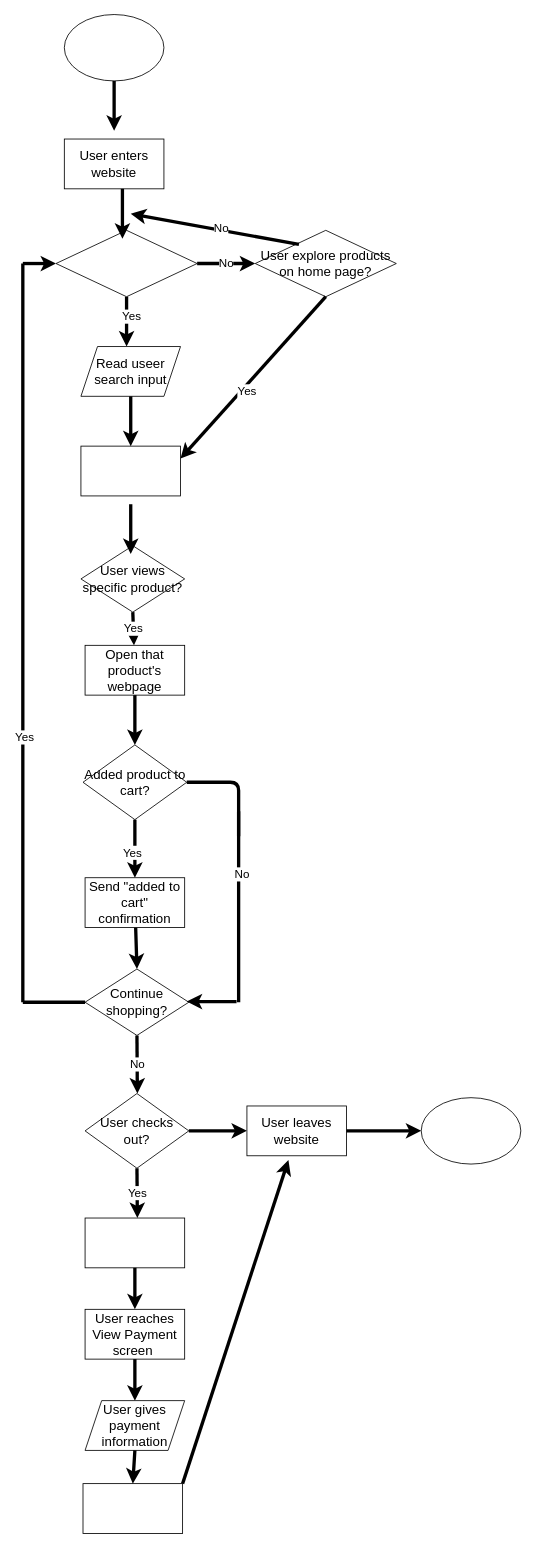
The diagram is 535 pixels wide and 1550 high, and some of its shapes have lost their labels. Here are the shapes that lost their labels. From the top down, the box of each, then its label:
(63, 14, 164, 81): Start
(55, 229, 197, 297): User searches for product?
(80, 445, 181, 496): User looks over products
(420, 1097, 521, 1164): End
(84, 1217, 185, 1268): User reaches View Cart screen
(82, 1483, 183, 1533): Redirect user to order confirmation screen and send email
